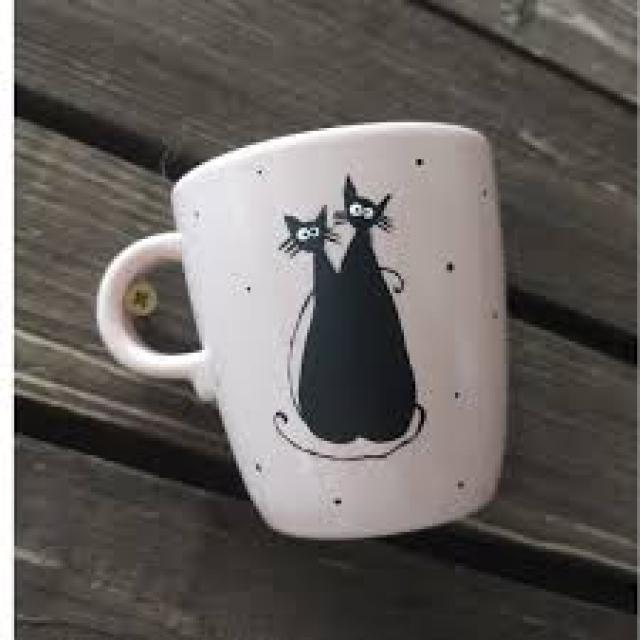taza: (71, 106, 518, 552)
